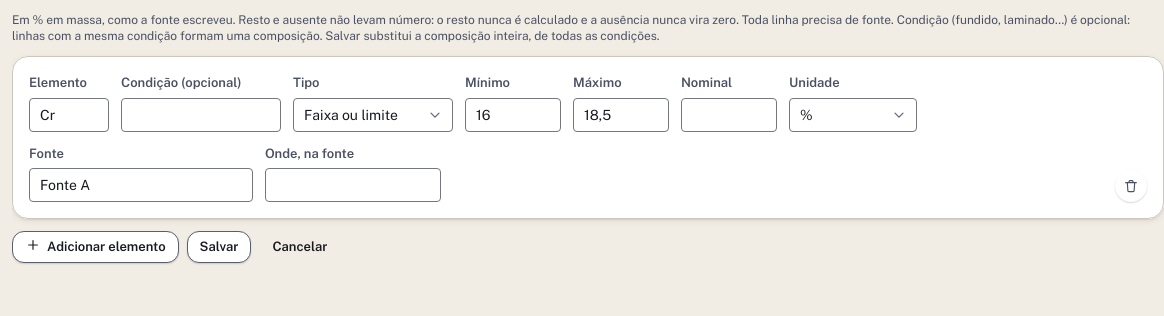
edição da composição (TM2-a) › shows the server's refusal
Click the button "Salvar".
click(219, 247)  # box x1=187 y1=231 x2=252 y2=263
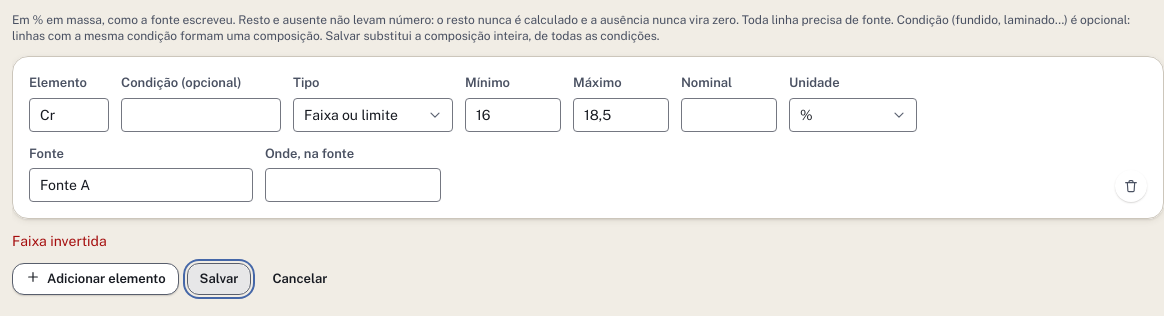
Expected: the message reads "Faixa invertida", x1=12 y1=233 x2=107 y2=249
